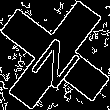N_NE: (24, 23, 86, 87)
